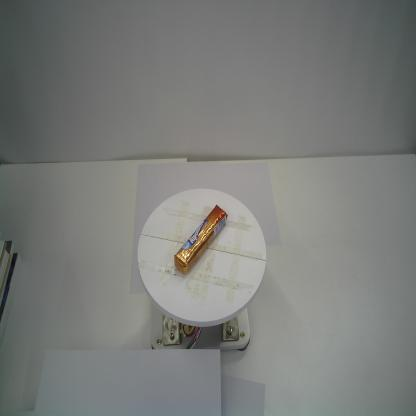Candy: (173, 204, 228, 275)
